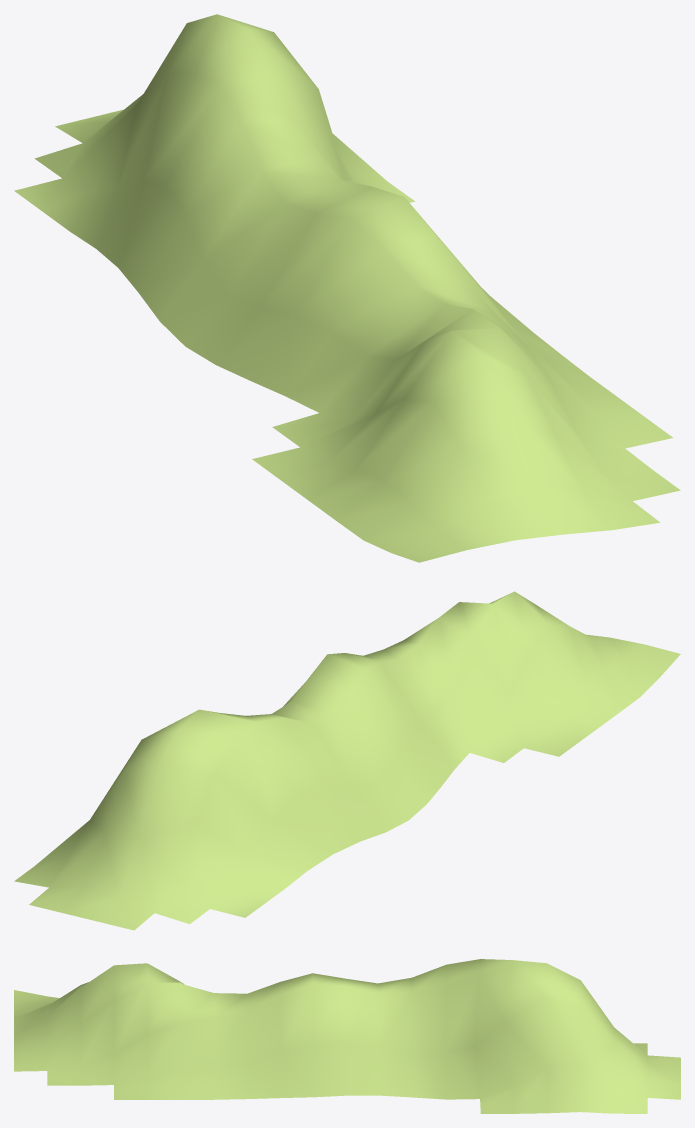
3 views of the same model, one above another, from view 1: azimuth 30°, elevation 25°; view 2: azimuth 150°, elevation 25°; view 3: azimuth 270°, elevation 25° (orthographic). The views are drawn at different scales.
Visible parts, largest first — view 1: Terrain_1_baking; view 2: Terrain_1_baking; view 3: Terrain_1_baking.
Part boxes in pixels (<box>): Terrain_1_baking: <box>14,14,680,562</box>; Terrain_1_baking: <box>14,591,680,930</box>; Terrain_1_baking: <box>14,959,680,1113</box>.
Size of the model in its own units: 6255 by 2978 by 15625.
